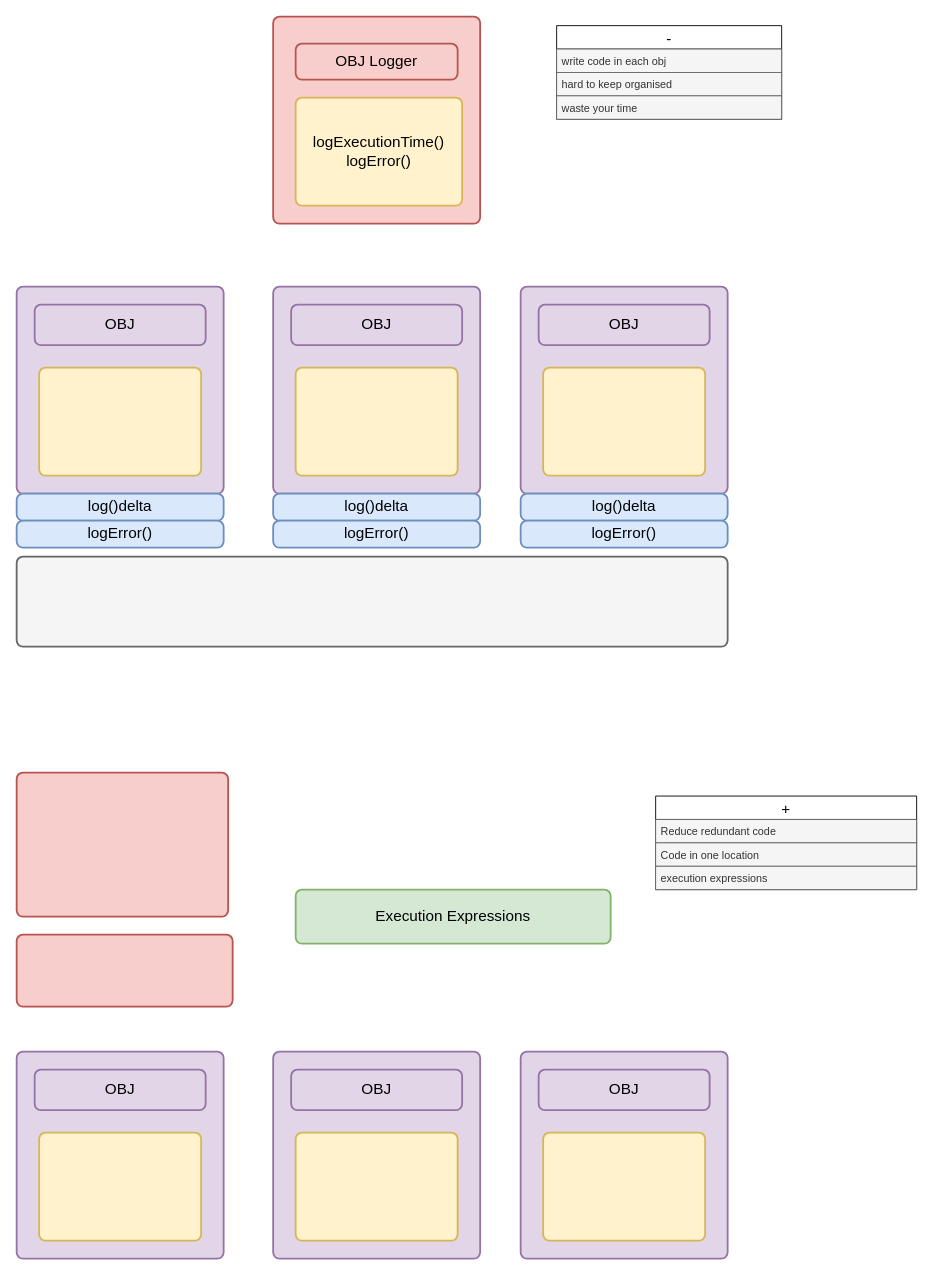
Some shapes in this 932 by 1274 pixel diagram are drawn without their labels. The centre of each missing label's shape, as x and y in pixels:
*Cross cutting concerns*: (x=371, y=601)
Aspect Configuration: (x=124, y=970)
LoggerAspect: (x=122, y=844)
